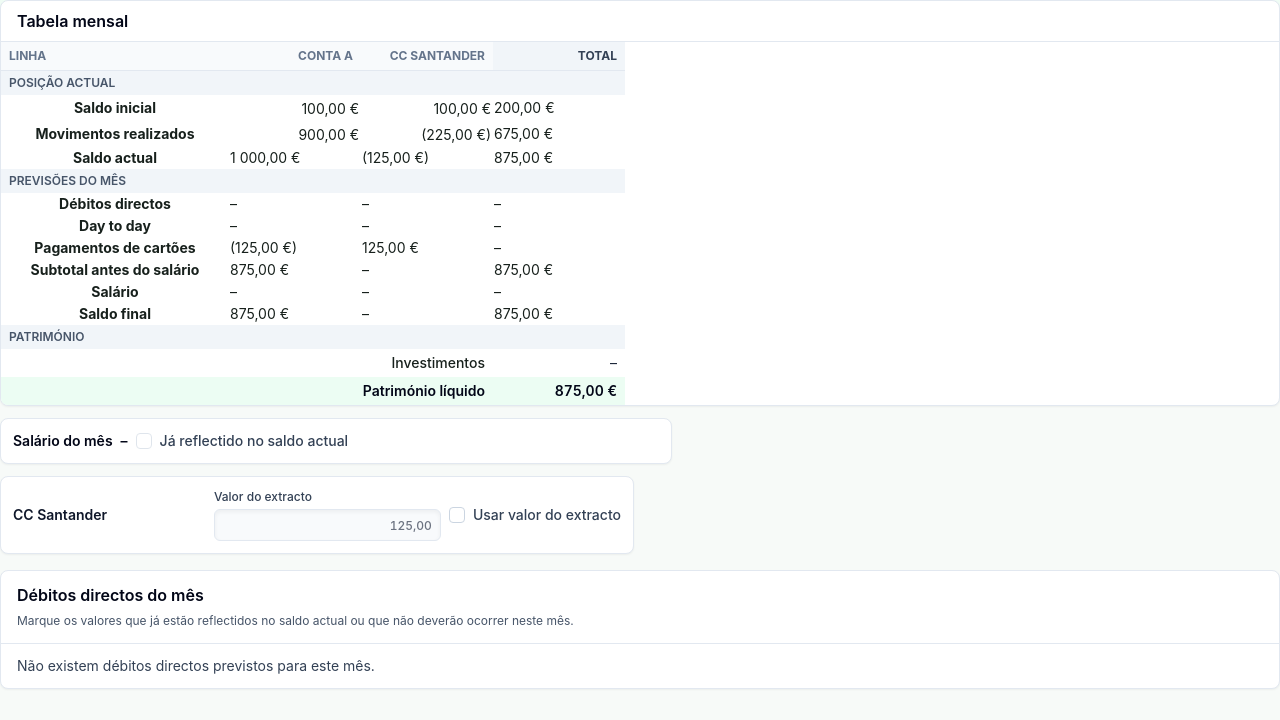
Scenario: MonthlyBudgetTable › treats a zero credit card override as a saved value and clearing returns to automatic
The image size is (1280, 720).
Click the checkbox named "Usar valor do extracto — CC Santander" at x=457, y=515, box top-left (449, 507), bottom-right (465, 523)
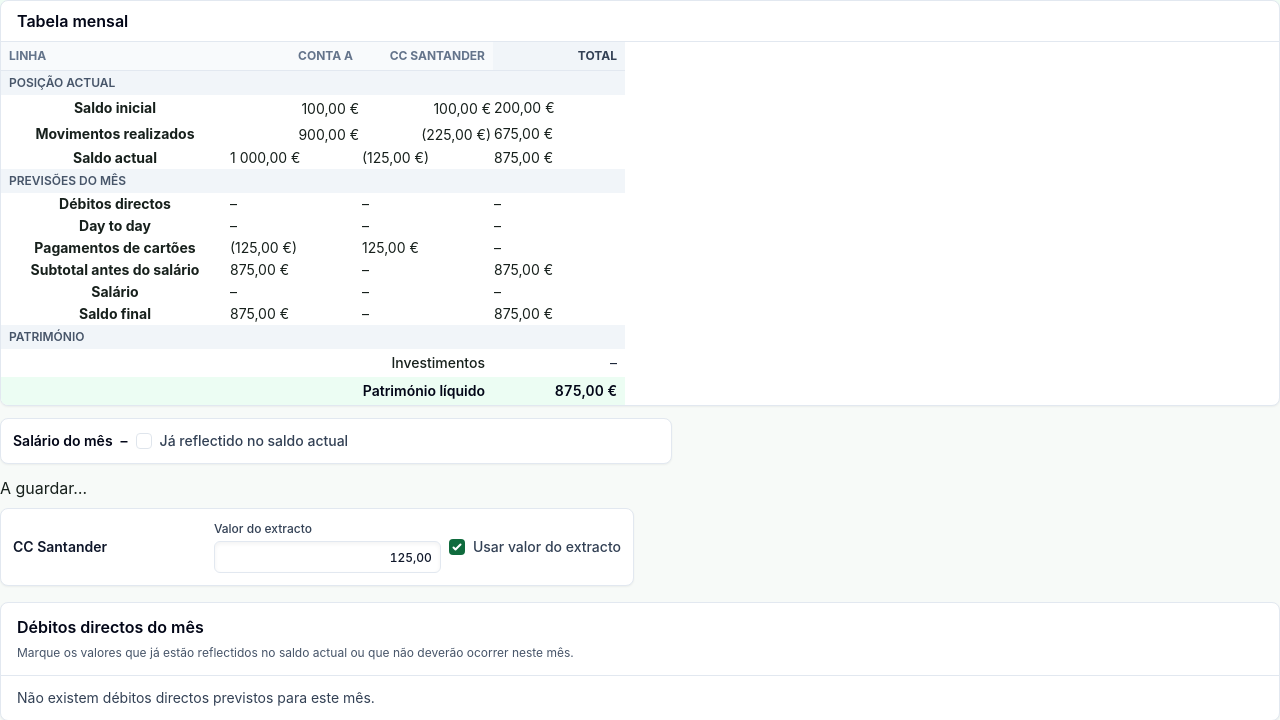
Type "0,00" into the field named "Valor do extracto — CC Santander" at x=327, y=557, box top-left (214, 541), bottom-right (441, 573)
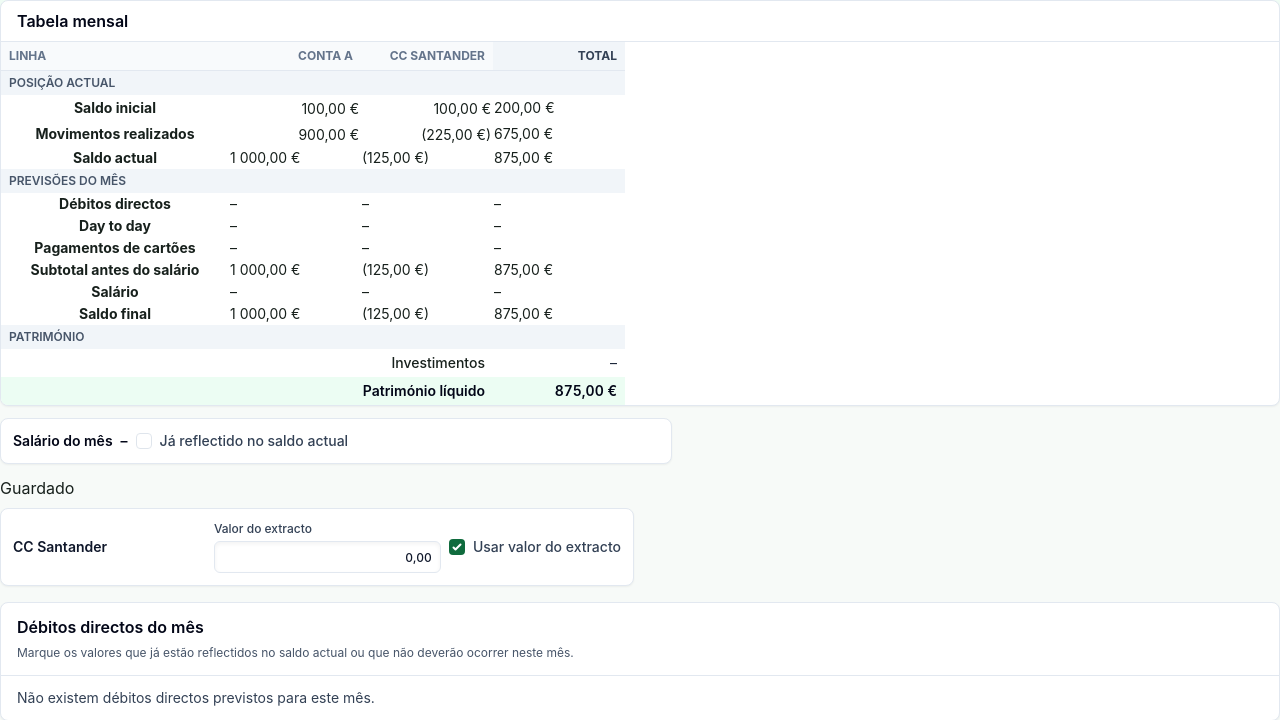
expect the 7th text "–" is shown: met, box top-left (229, 237), bottom-right (361, 259)
Click the checkbox named "Usar valor do extracto — CC Santander" at x=457, y=547, box top-left (449, 539), bottom-right (465, 555)
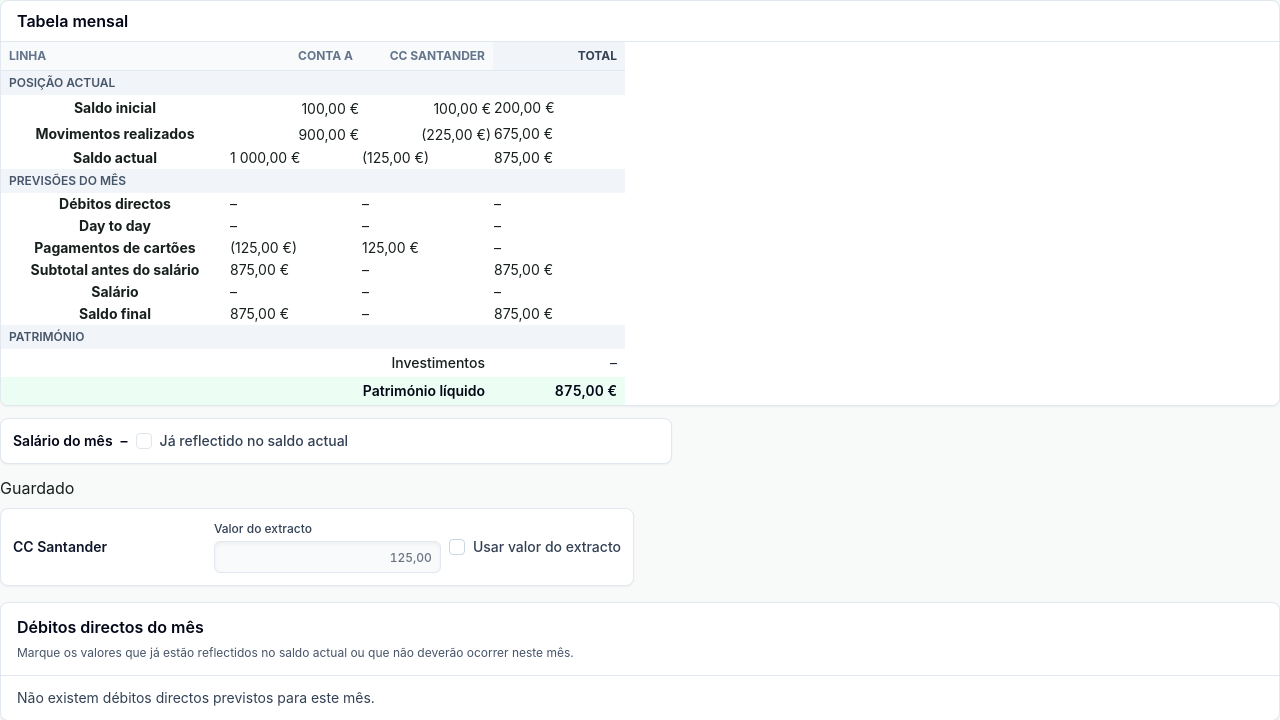
expect the text "(125,00 €)" next to "Pagamentos de cartões" is shown: met, box top-left (230, 239), bottom-right (297, 256)
